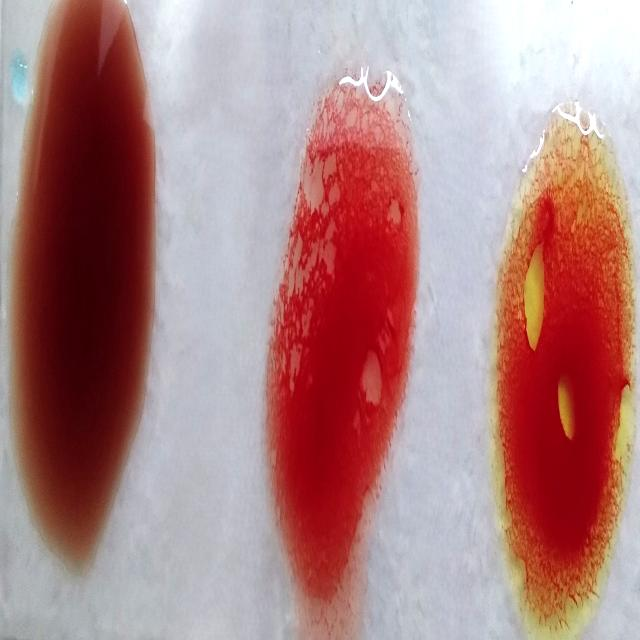B: (496, 95, 624, 640)
D: (278, 76, 410, 614)
